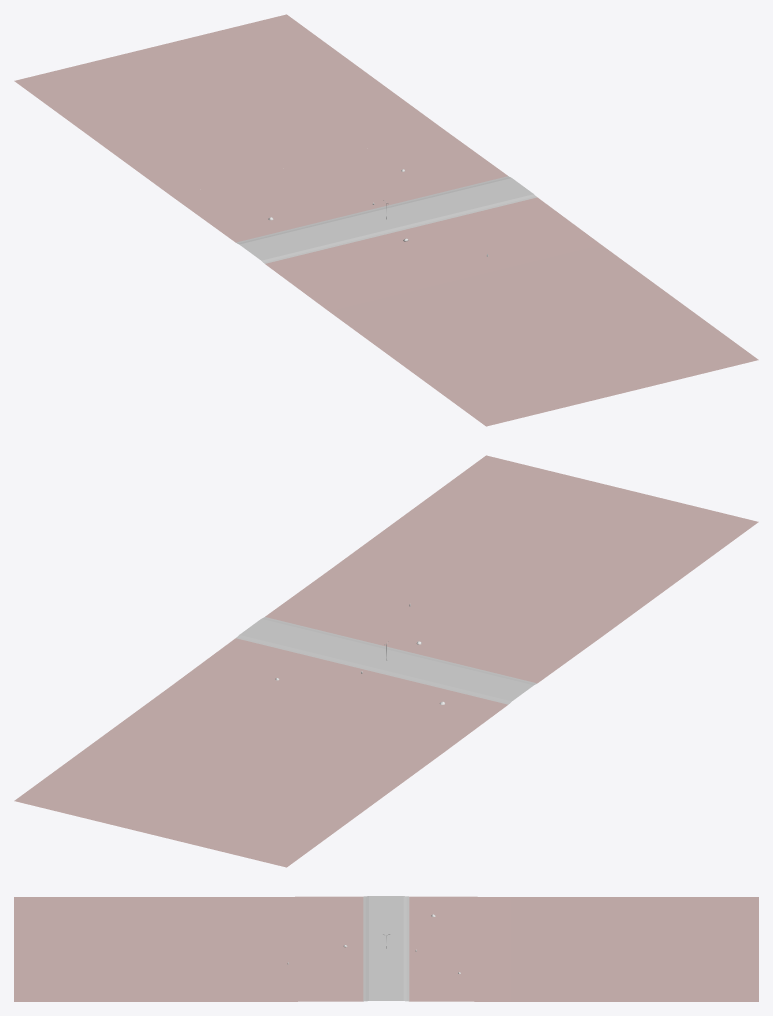
3 renders of one model, top to bottom at view 1: azimuth 30°, elevation 25°; view 2: azimuth 150°, elevation 25°; view 3: azimuth 270°, elevation 25°, orthographic. The views are drawn at different scales.
Parts seen in each view (by area): view 1: ground, ground.001, road; view 2: ground, ground.001, road; view 3: road, ground, ground.001.
Boxes of the visible parts, left/top/right/bottom form: ground: left=14, top=14, right=443, bottom=195; ground.001: left=329, top=245, right=758, bottom=426; road: left=172, top=129, right=600, bottom=311; ground: left=14, top=686, right=443, bottom=867; ground.001: left=329, top=455, right=758, bottom=636; road: left=172, top=570, right=600, bottom=752; road: left=262, top=896, right=510, bottom=1001; ground: left=510, top=897, right=758, bottom=1001; ground.001: left=14, top=897, right=262, bottom=1001.
Size of the model in its own units: 835 by 2504 by 54.45.
